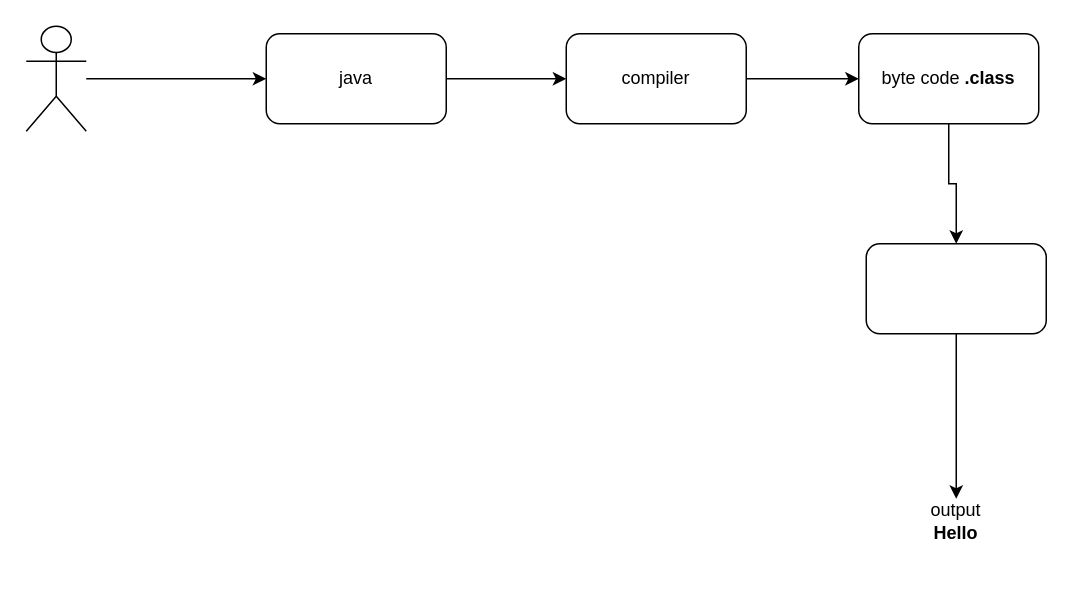
Image size: 1073x593. Some labels were removed from this diagram. Here are the shapes that lost their labels. From the top down, the box of each, then its label:
(25, 25, 86, 131): Actor
(865, 242, 1046, 334): jvm (run the byte code)
